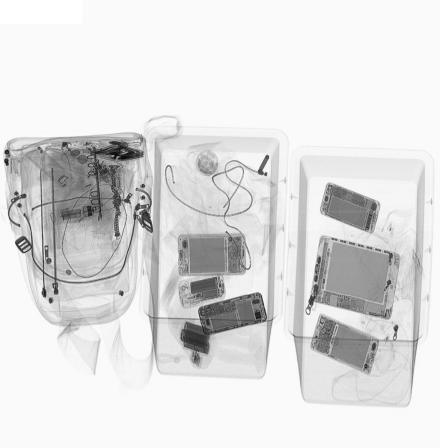Powerbank: (178, 233, 246, 277)
